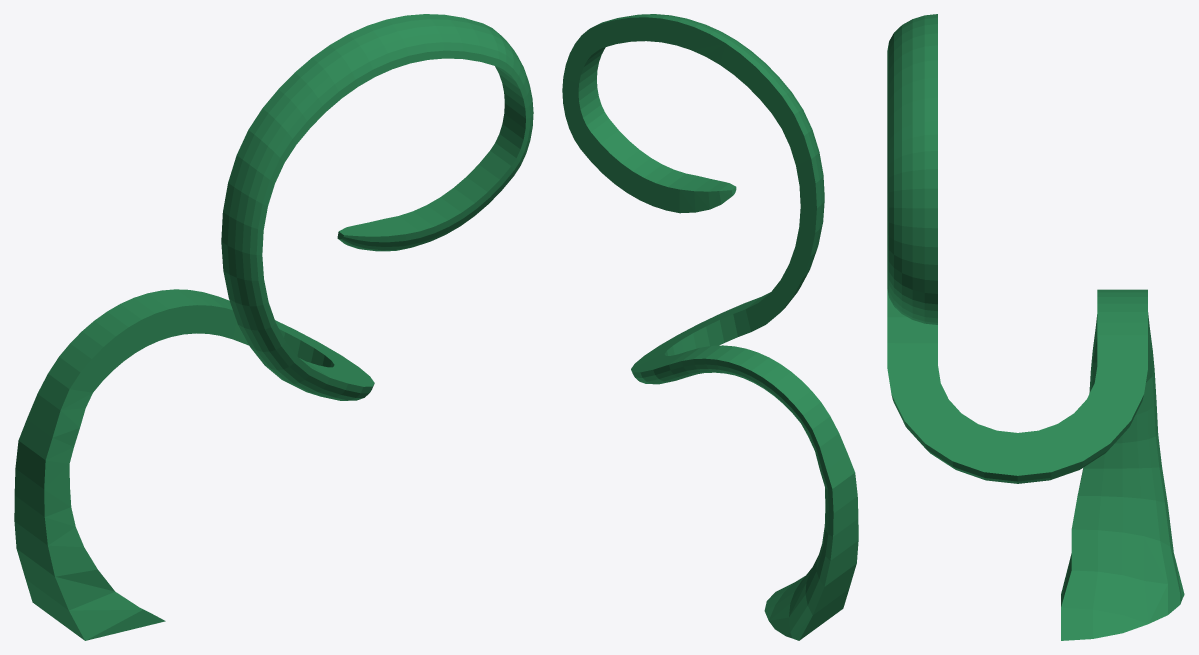
Rendered from Terrain_Verdant_Grass_Topiary_Spiral_Twisted_01.FBX.
The picture shows the model from 3 angles, left to right: view 1: azimuth 30°, elevation 25°; view 2: azimuth 150°, elevation 25°; view 3: azimuth 270°, elevation 25°; orthographic projection. The views are drawn at different scales.
Parts seen in each view (by area): view 1: Terrain_Verdant_Grass_Topiary_Spiral_Twisted_01; view 2: Terrain_Verdant_Grass_Topiary_Spiral_Twisted_01; view 3: Terrain_Verdant_Grass_Topiary_Spiral_Twisted_01.
Boxes of the visible parts, x1,y1,x2,y2 form: Terrain_Verdant_Grass_Topiary_Spiral_Twisted_01: (14, 14, 533, 640); Terrain_Verdant_Grass_Topiary_Spiral_Twisted_01: (562, 14, 858, 640); Terrain_Verdant_Grass_Topiary_Spiral_Twisted_01: (887, 14, 1184, 640).
Bounding box in the file's own units: 3802 × 5233 × 2002.
